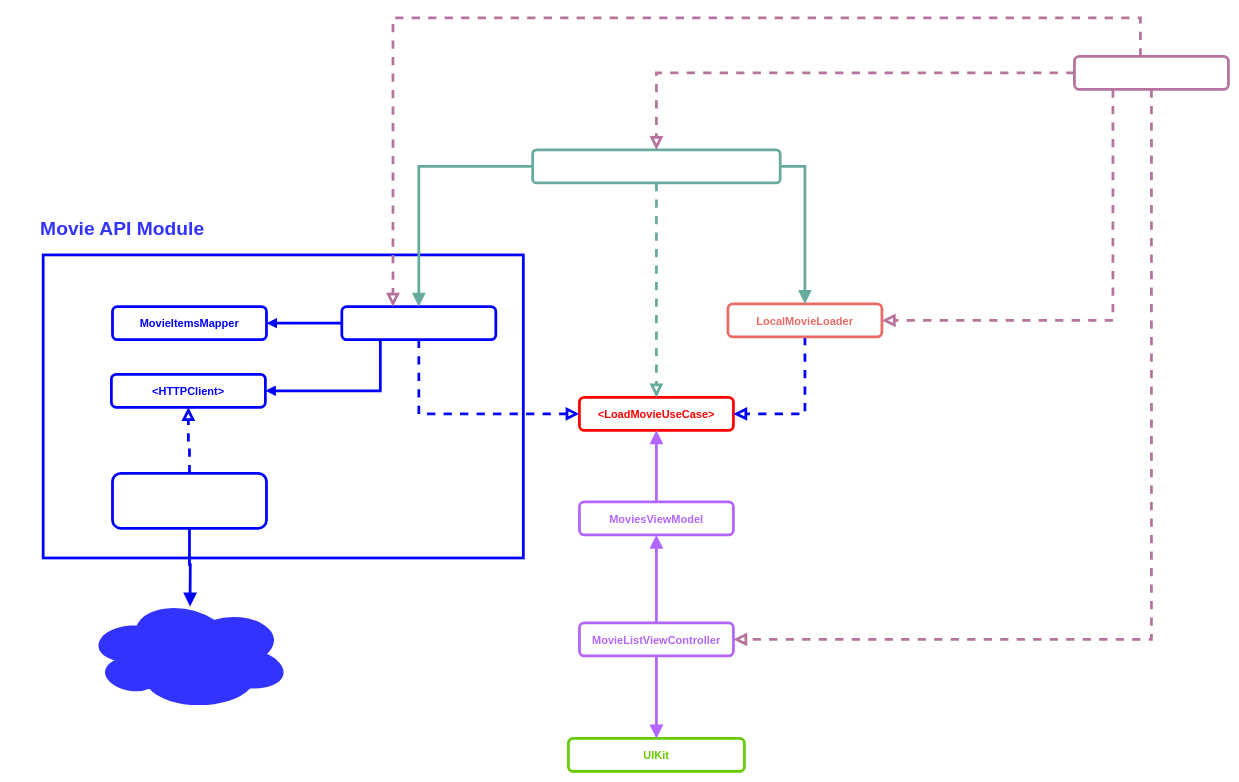
Image size: 1239x782. Some labels were removed from this diagram. Each missing label, with the centre of its shape:
"Main" belongs at point 1151,72.
"RemoteMovieLoader" belongs at point 418,323.
"RemoteWithLocalFavouriteMovieAdapter" belongs at point 656,166.
"URLSession HTTPClient" belongs at point 189,500.
